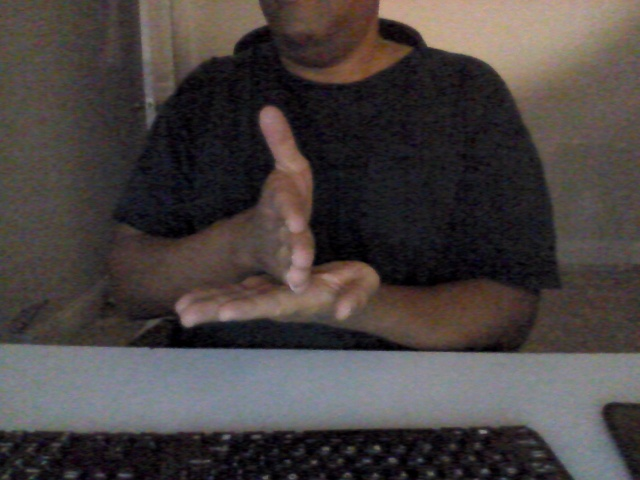stop: (171, 100, 382, 331)
